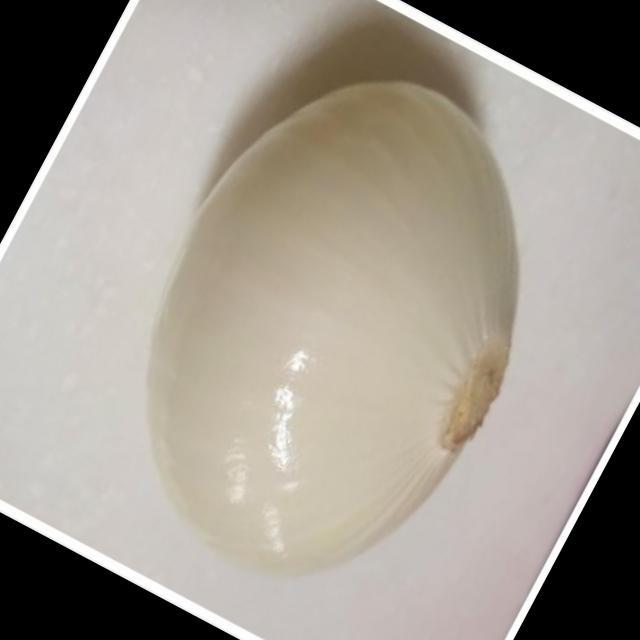Onion: (141, 84, 517, 563)
